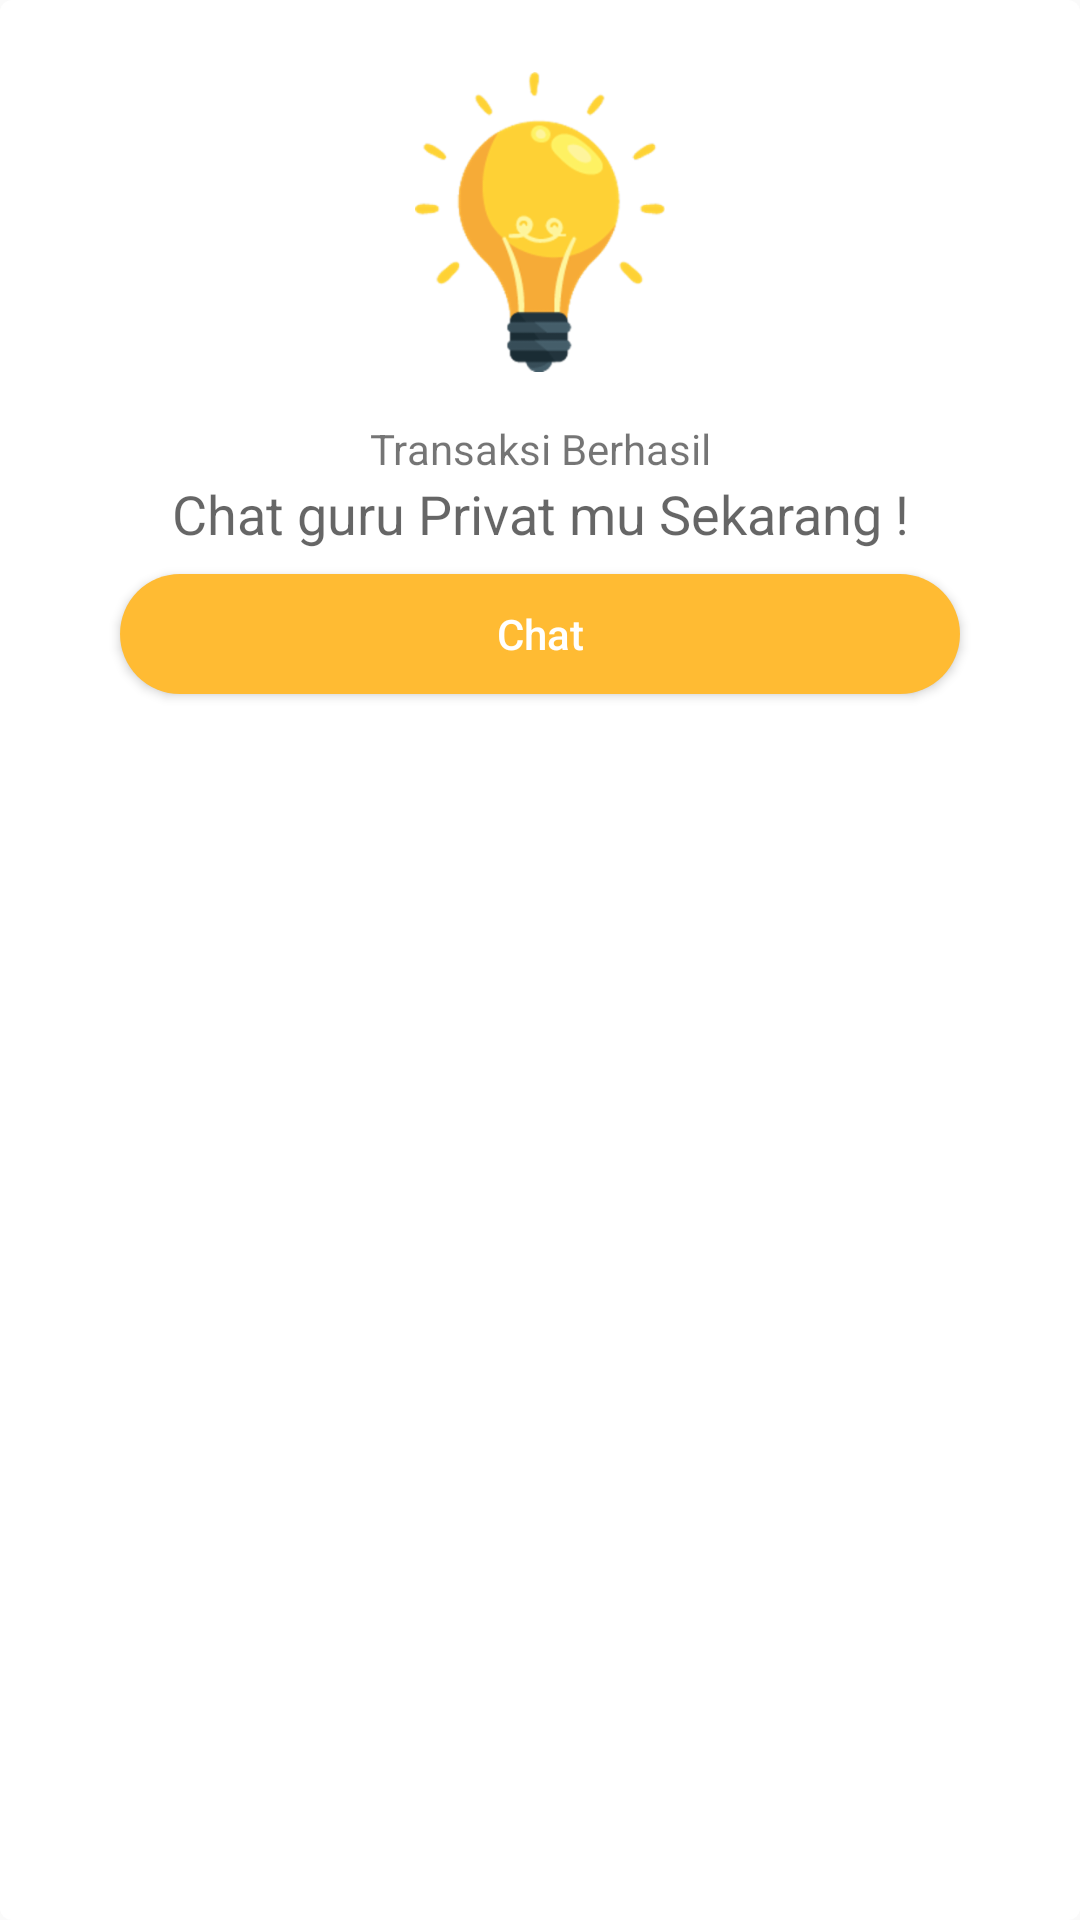

Screen size 1080px×1920px. Icon name, then its box in pixels as (x1, y1, x2, y2):
lamp: (415, 72, 665, 372)
